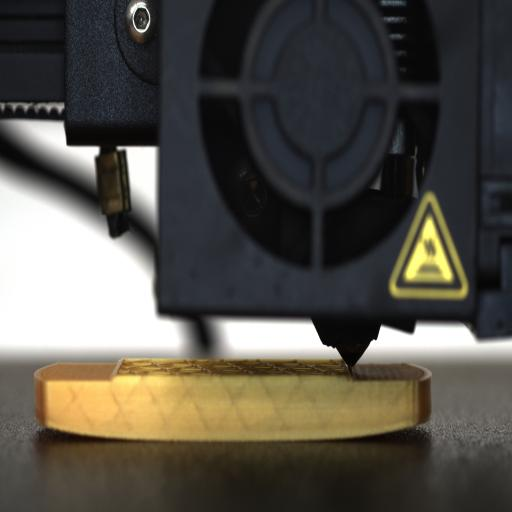warp: (310, 408, 435, 452), (30, 406, 110, 444)
